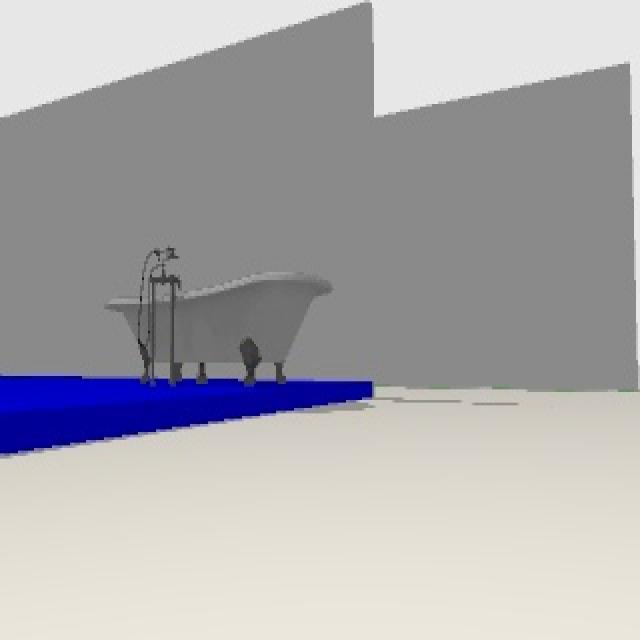bathtub: (107, 243, 336, 384)
